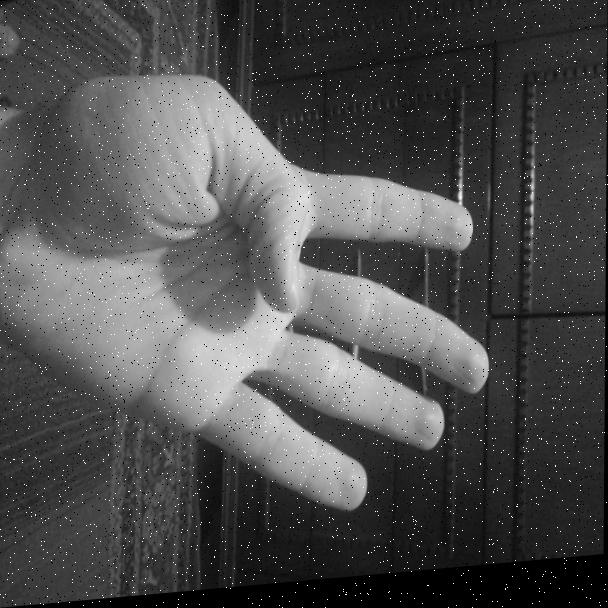four: (8, 27, 505, 566)
